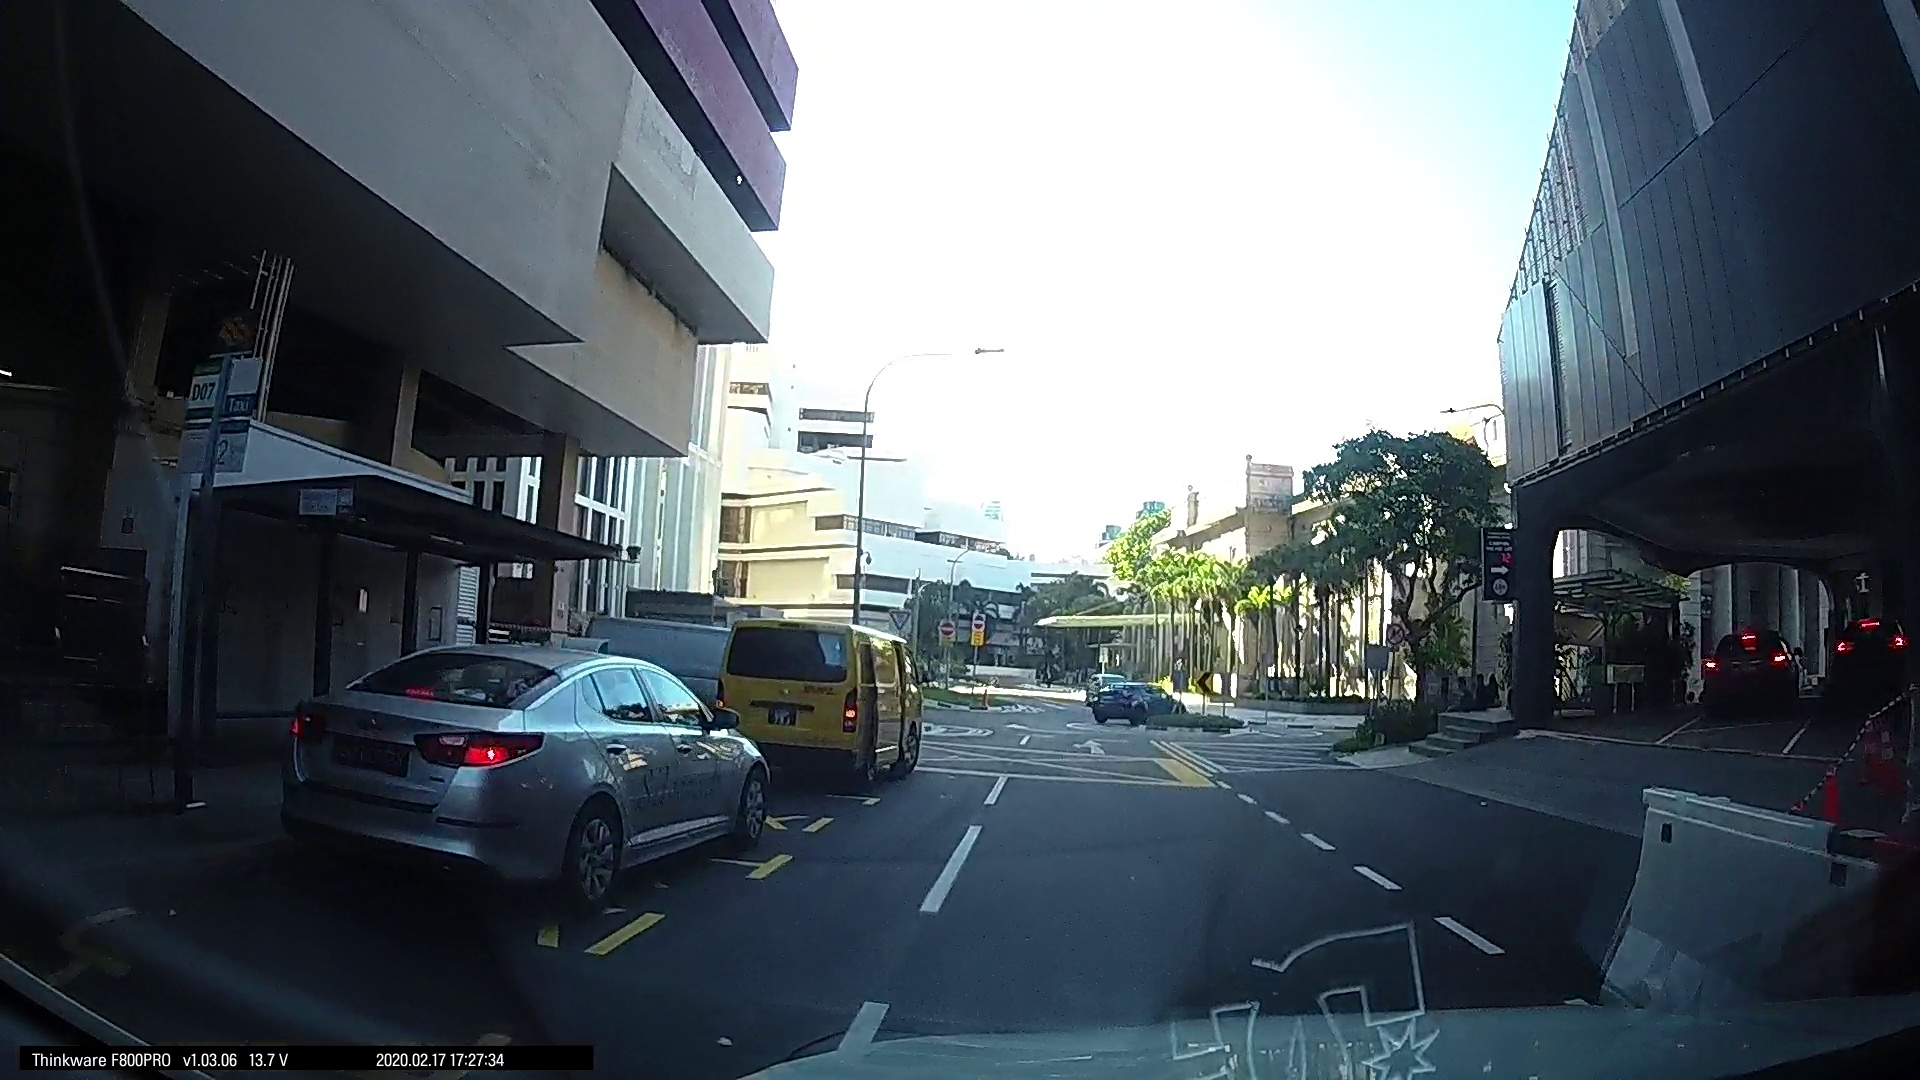Heavy Vehicle: (38, 393, 556, 928)
Light Vehicle: (1764, 690, 1900, 782), (1207, 638, 1299, 727), (920, 641, 978, 694), (1025, 646, 1060, 680)
